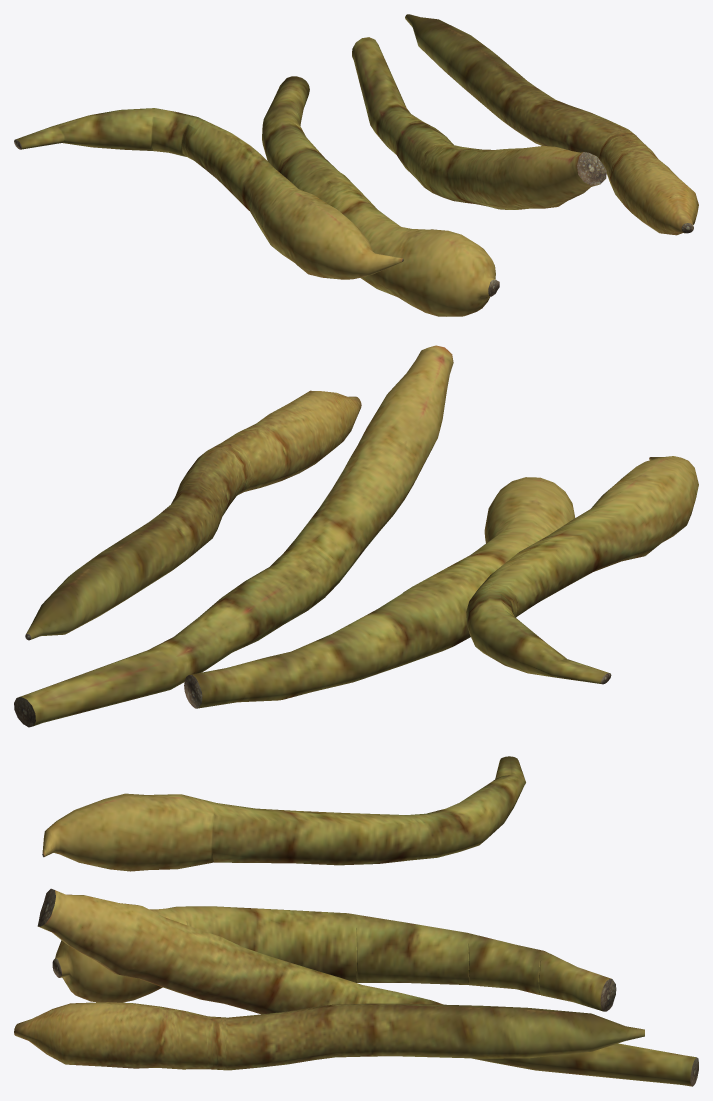
Rendered from taizishen.FBX.
3 renders of one model, top to bottom at view 1: azimuth 30°, elevation 25°; view 2: azimuth 150°, elevation 25°; view 3: azimuth 270°, elevation 25°, orthographic. The views are drawn at different scales.
Visible parts, largest first — view 1: Cylinder003, Cylinder004, Cylinder001, Cylinder002; view 2: Cylinder002, Cylinder001, Cylinder004, Cylinder003; view 3: Cylinder004, Cylinder003, Cylinder001, Cylinder002.
Part boxes in pixels (x1,y1,x2,y2): Cylinder003: (14, 108, 403, 279); Cylinder004: (405, 14, 698, 235); Cylinder001: (262, 76, 499, 316); Cylinder002: (352, 37, 606, 209); Cylinder002: (14, 345, 453, 727); Cylinder001: (184, 477, 575, 708); Cylinder004: (25, 390, 361, 640); Cylinder003: (466, 456, 698, 684); Cylinder004: (14, 1002, 644, 1070); Cylinder003: (42, 756, 525, 871); Cylinder001: (52, 906, 616, 1011); Cylinder002: (37, 888, 698, 1086).
Bounding box in the file's own units: 48.89 × 14.56 × 53.6.
1 material, 1 textured.
